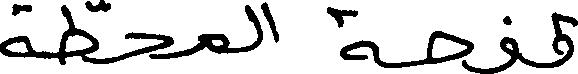X: (59, 0, 97, 69), (427, 26, 472, 73), (340, 5, 374, 65), (0, 0, 31, 62), (125, 27, 172, 63), (552, 7, 577, 72), (500, 11, 517, 73), (245, 0, 260, 56), (200, 29, 227, 58), (262, 0, 278, 47)
